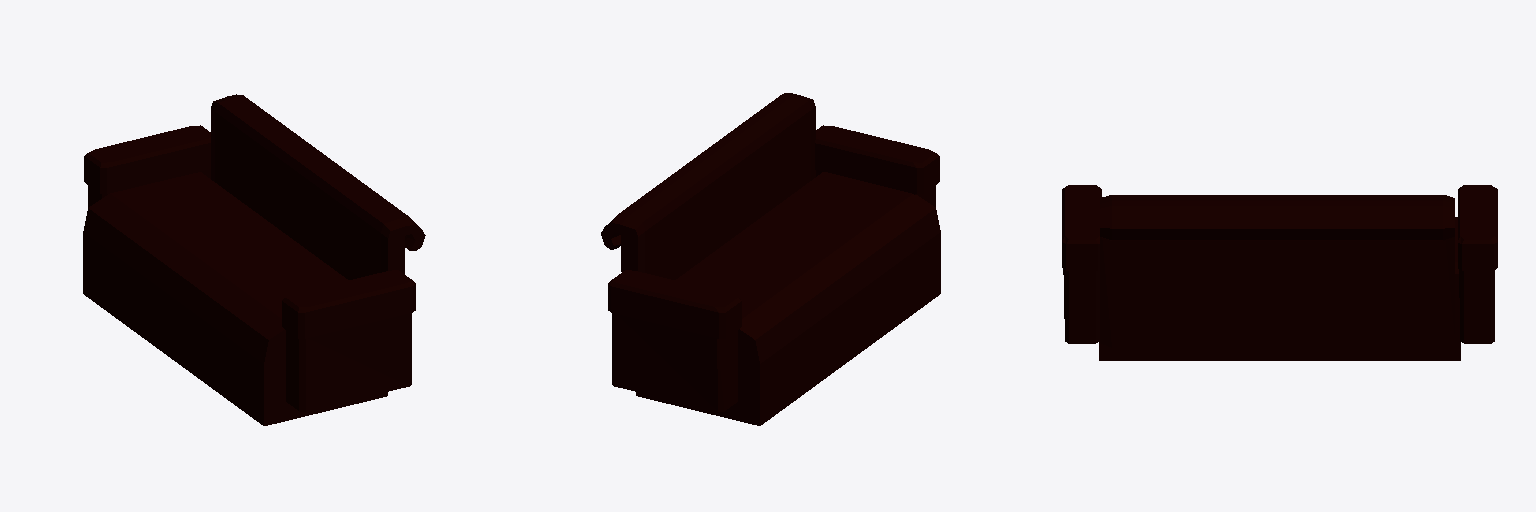
File: sofa3.obj
3 renders of one model, left to right at view 1: azimuth 30°, elevation 25°; view 2: azimuth 150°, elevation 25°; view 3: azimuth 270°, elevation 25°, orthographic.
Parts seen in each view (by area): view 1: Cube.003; view 2: Cube.003; view 3: Cube.003.
Part boxes in pixels (left/top/right/bottom): Cube.003: left=83, top=94, right=425, bottom=425; Cube.003: left=601, top=93, right=940, bottom=425; Cube.003: left=1062, top=185, right=1497, bottom=360.
Bounding box in the file's own units: 5.9 × 5.76 × 13.51.